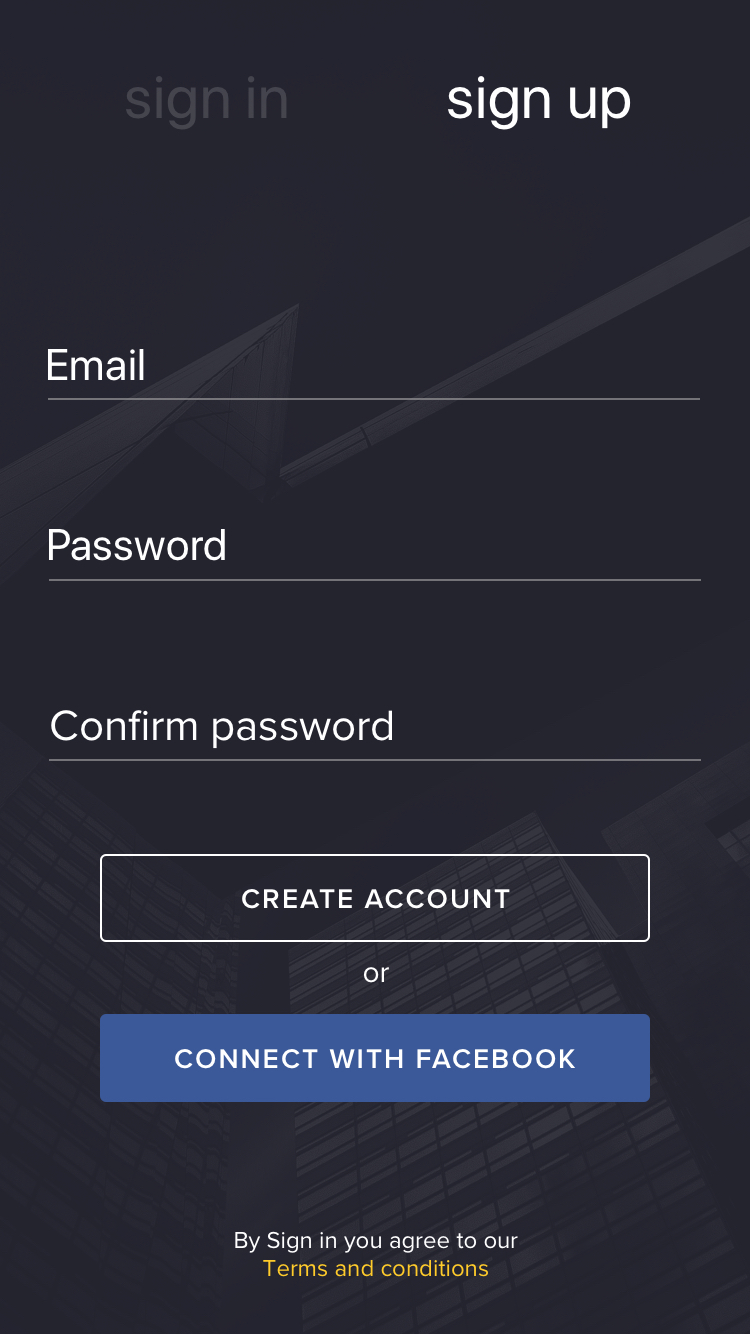BackgroundImage: (1, 1, 750, 1334)
EditText: (49, 528, 702, 582), (49, 709, 702, 762), (48, 349, 700, 401)
Text: (234, 1230, 519, 1278), (51, 710, 393, 749), (448, 76, 631, 132), (126, 76, 288, 132), (50, 528, 227, 562), (48, 350, 145, 382), (363, 966, 390, 984)
TextButton: (100, 854, 651, 943), (100, 1014, 651, 1103)
